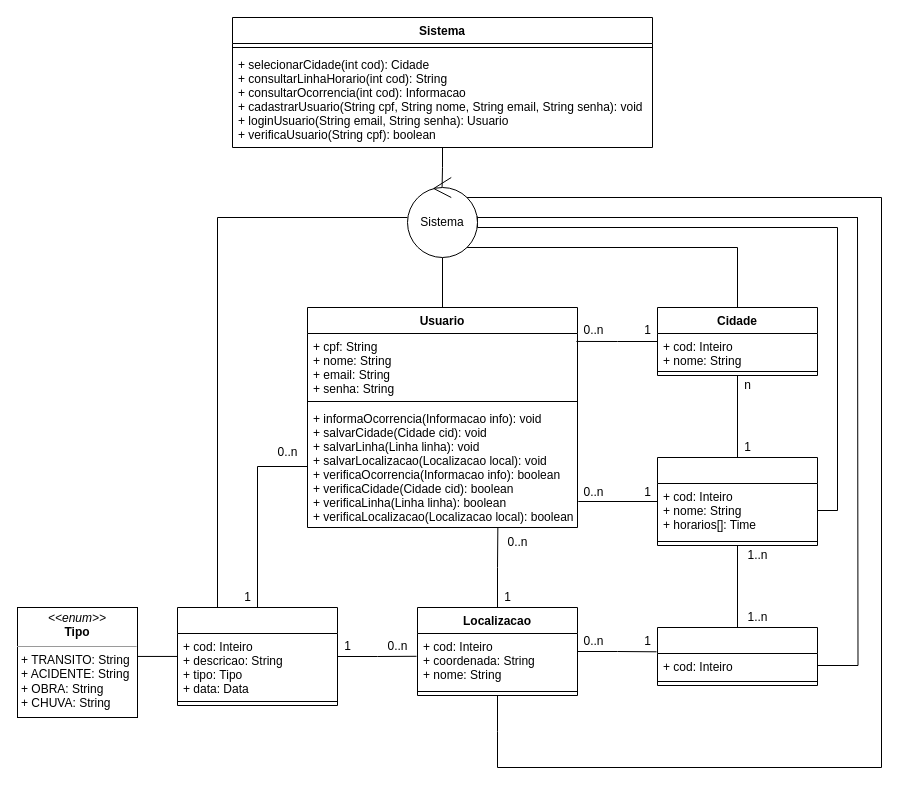
This 900x786 diagram has some shape labels left out. The shapes that lost their labels are listed below. From the top down, each one's box as (x1, y1, x2, y2) in pixels, then its label:
(656, 456, 818, 546): Linha
(176, 606, 338, 706): Informacao
(656, 626, 818, 686): Ponto
